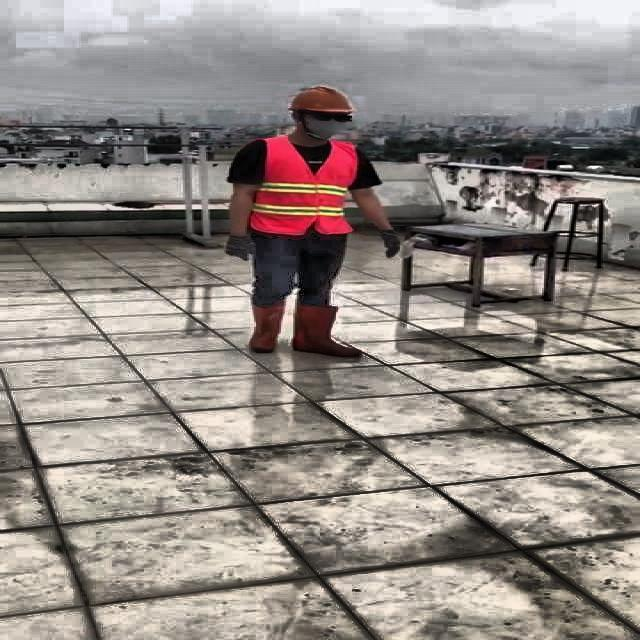safety_helmet: (286, 86, 358, 116)
safety_jacket: (251, 134, 361, 234)
